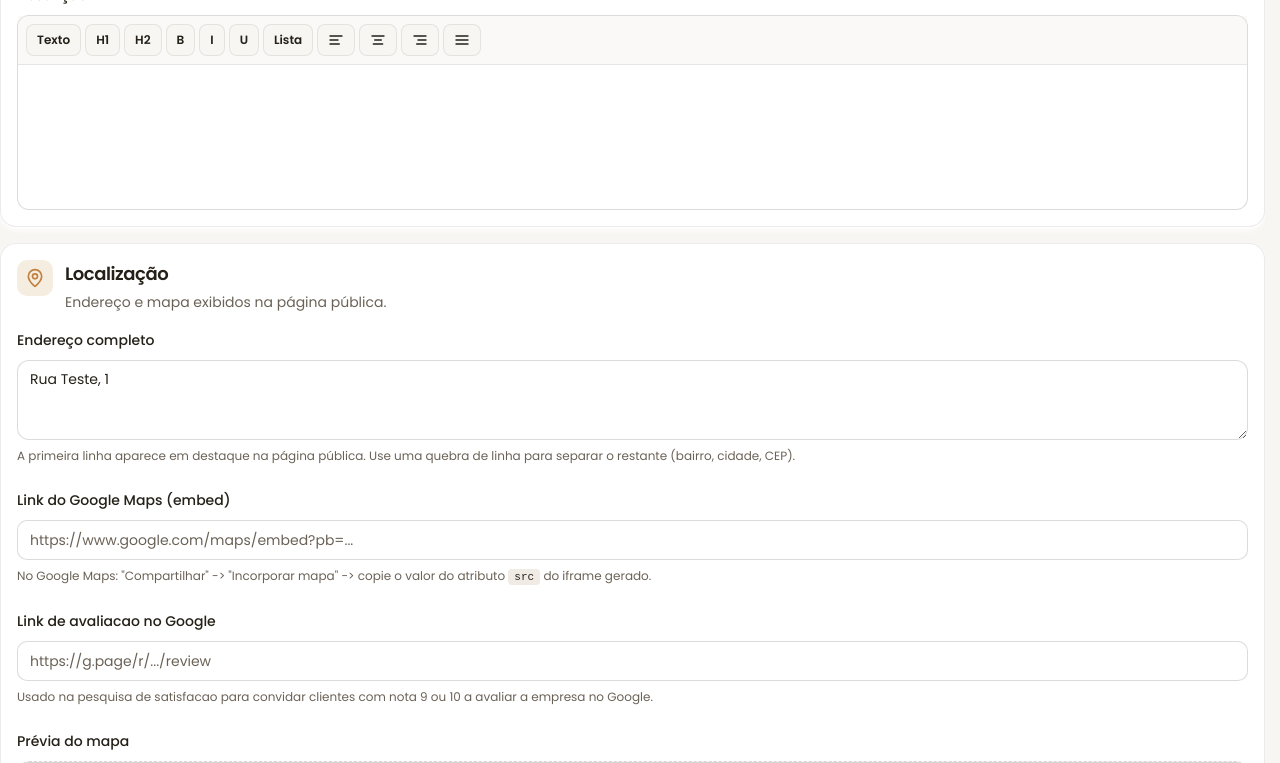
Scenario: CompanySettings — salvamento por página › marca "Não salvo" ao editar e limpa a marca depois de salvar
The image size is (1280, 763).
(page scrolled)
Check: the text "Não salvo" is not shown
Replace the text in the text box labelled "Endereço completo" with "Rua Nova, 99": (632, 400) [17,360,1248,440]
(page scrolled)
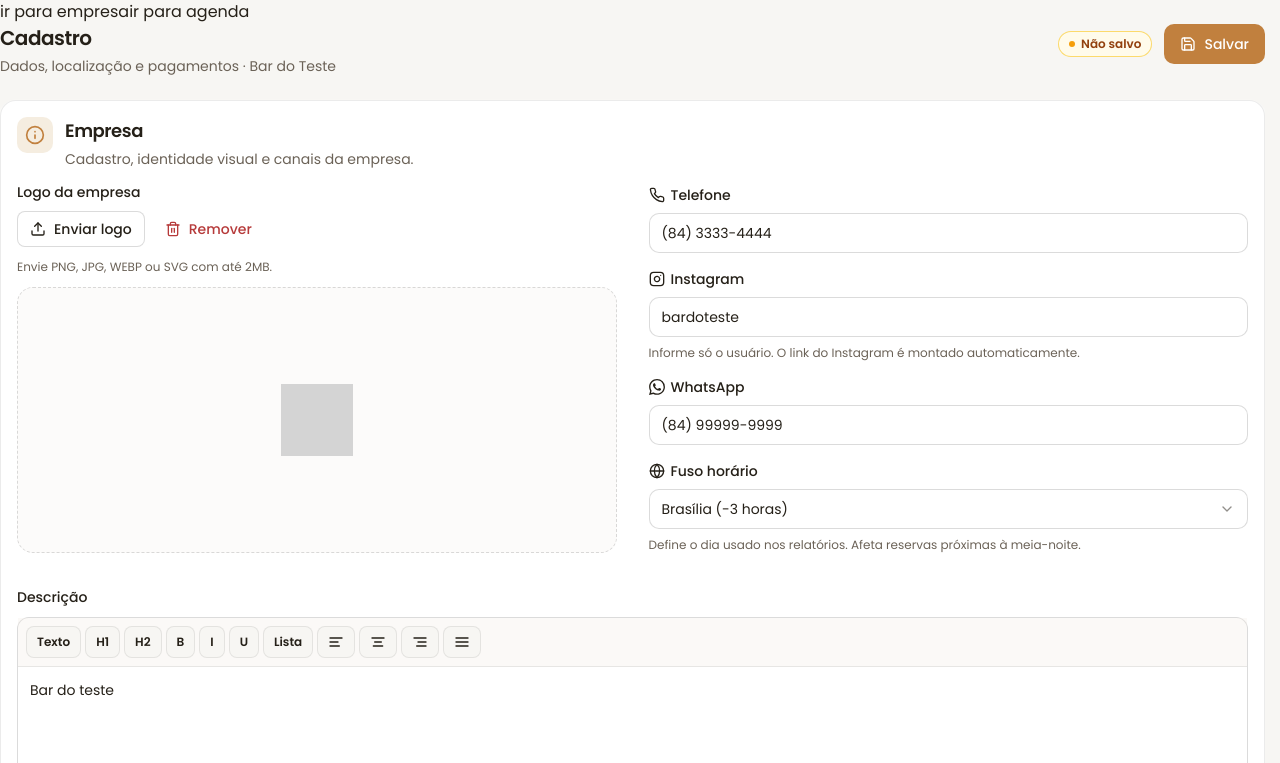
Check: the text "Não salvo" is shown, box [1058,31,1152,57]
Click the button "Salvar": (1215, 44) [1164,24,1265,64]
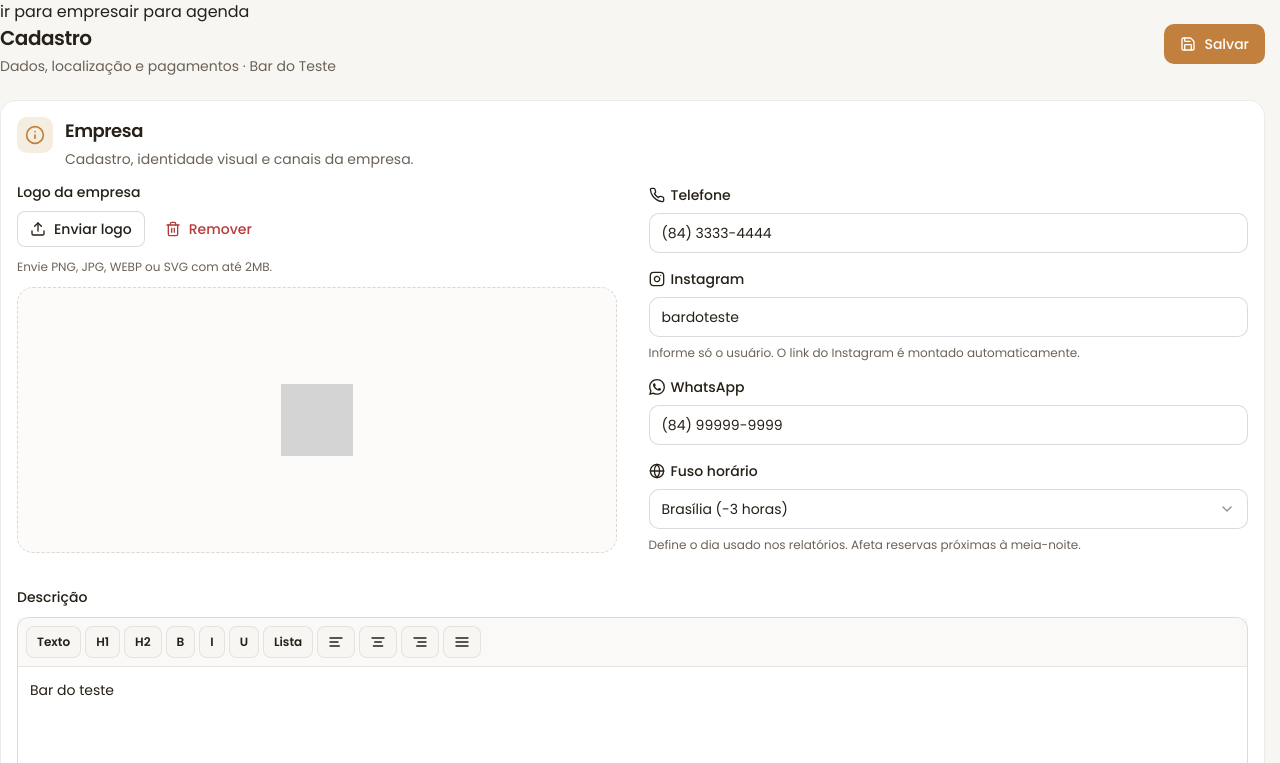
Check: the text "Não salvo" is gone
